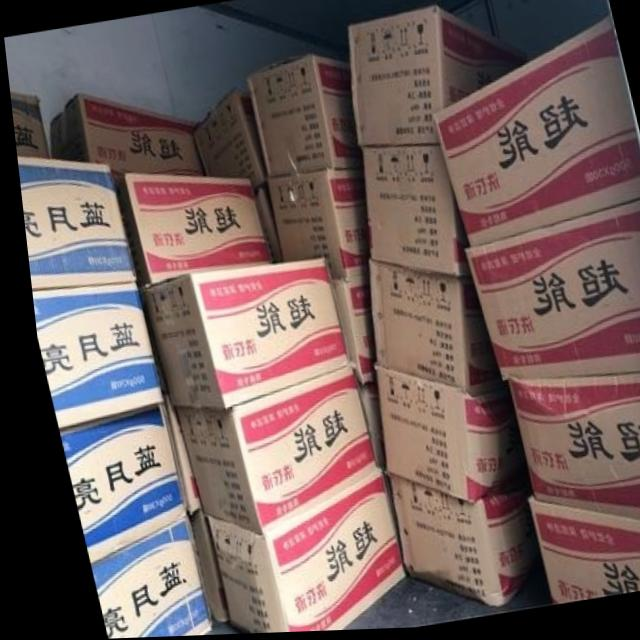box: (429, 20, 640, 251), (166, 367, 367, 535), (457, 201, 640, 382), (132, 258, 343, 413), (196, 473, 390, 635), (345, 10, 532, 146), (499, 369, 640, 522), (376, 474, 528, 608), (367, 367, 514, 505), (49, 404, 175, 559), (25, 278, 155, 426), (362, 260, 501, 392), (111, 172, 263, 285), (14, 158, 130, 287), (79, 516, 196, 639), (357, 145, 464, 278), (243, 56, 358, 178), (61, 94, 202, 186), (519, 499, 640, 603), (262, 170, 361, 283), (187, 88, 262, 191), (325, 273, 367, 388), (148, 403, 189, 518), (174, 506, 213, 624), (8, 89, 46, 155), (247, 179, 274, 261), (349, 375, 369, 474), (44, 106, 70, 163)
